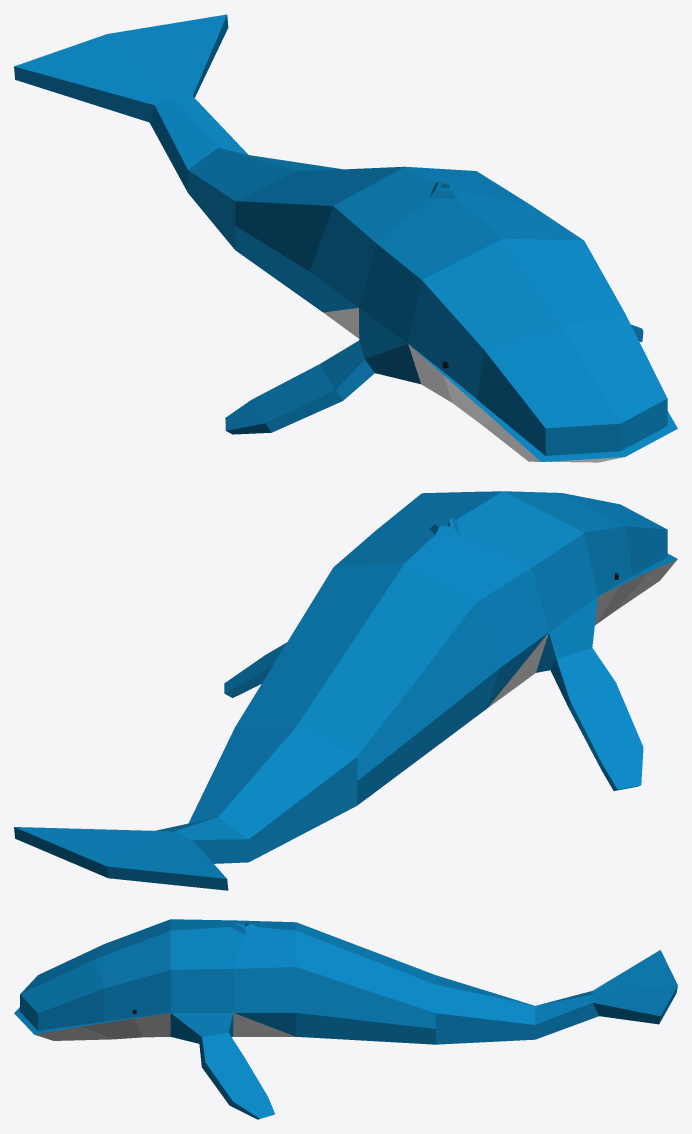
The model's file is Whale_01.fbx.
3 views of the same model, one above another, from view 1: azimuth 30°, elevation 25°; view 2: azimuth 150°, elevation 25°; view 3: azimuth 270°, elevation 25° (orthographic). The views are drawn at different scales.
Visible parts, largest first — view 1: Whale_01; view 2: Whale_01; view 3: Whale_01.
Boxes of the visible parts, <box> form: Whale_01: <box>14,14,677,462</box>; Whale_01: <box>14,491,677,890</box>; Whale_01: <box>14,919,677,1119</box>.
Bounding box in the file's own units: 15.02 × 7.13 × 32.36.
